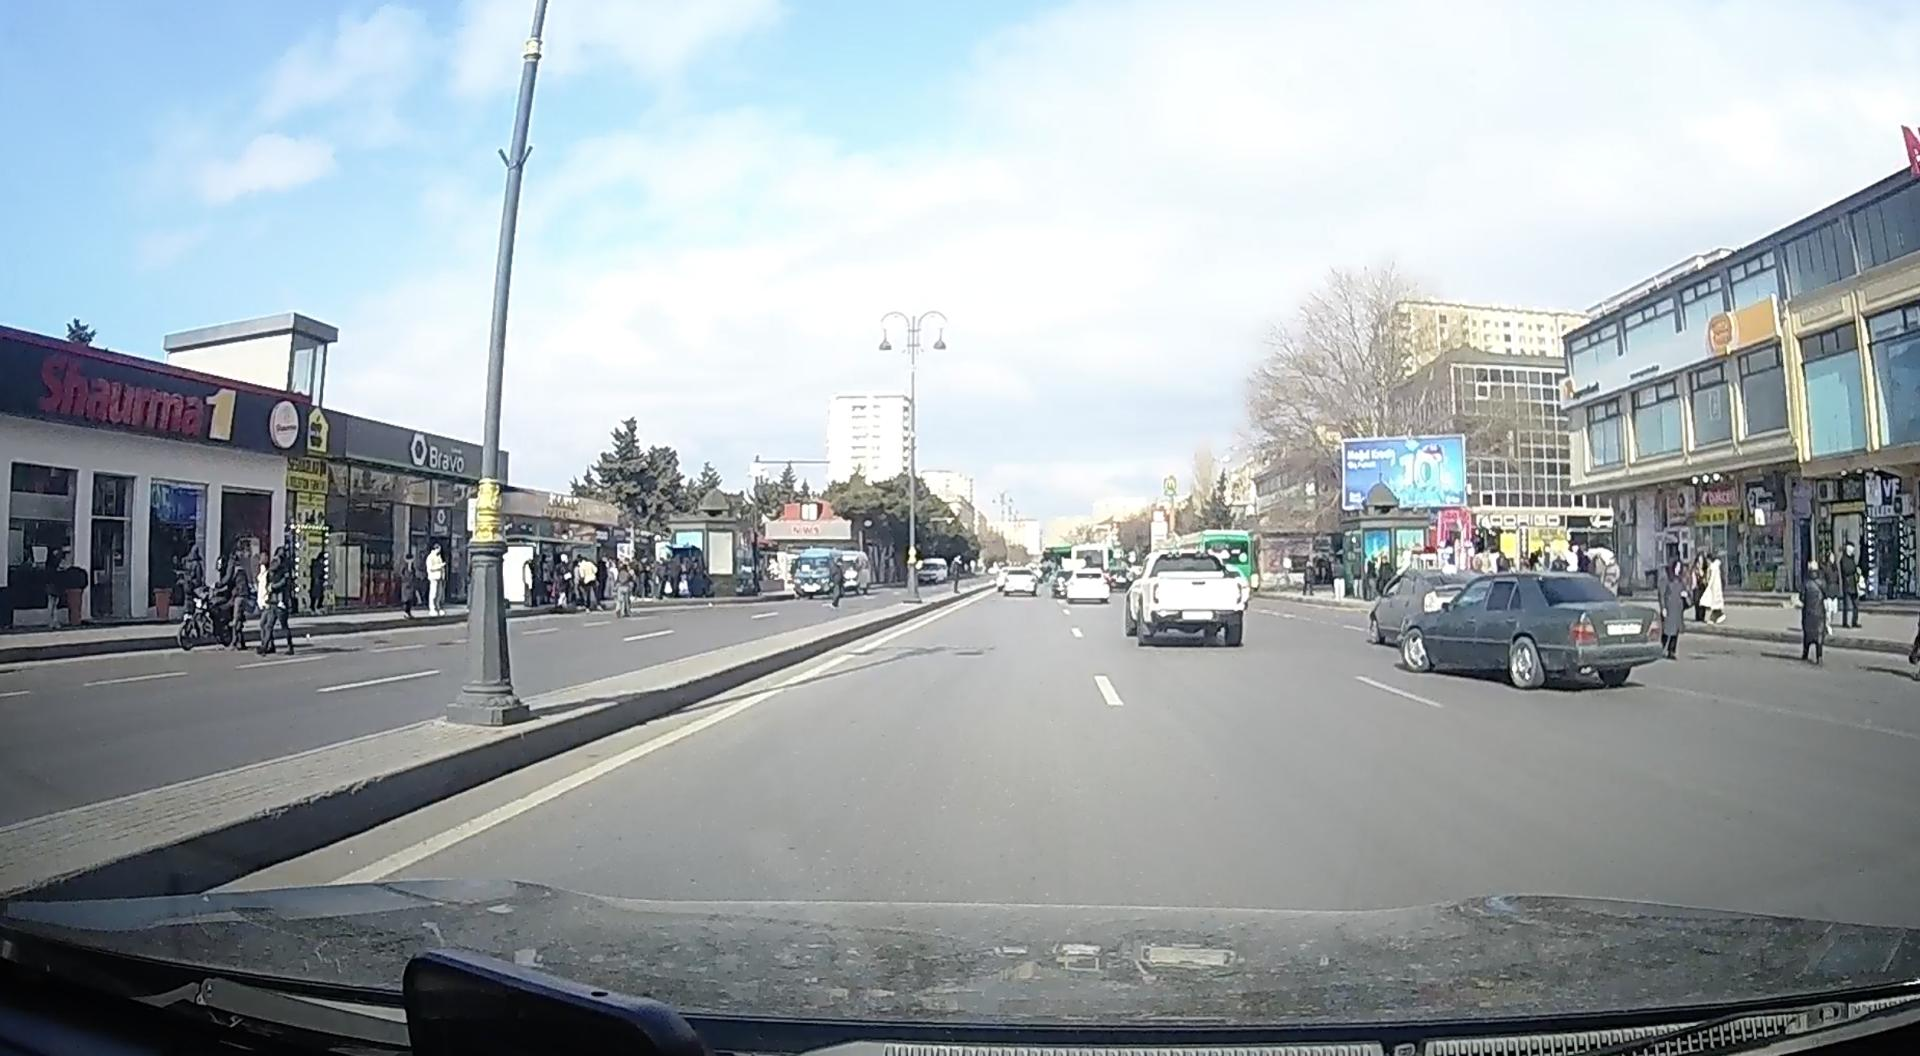banner: (1340, 433, 1468, 511)
